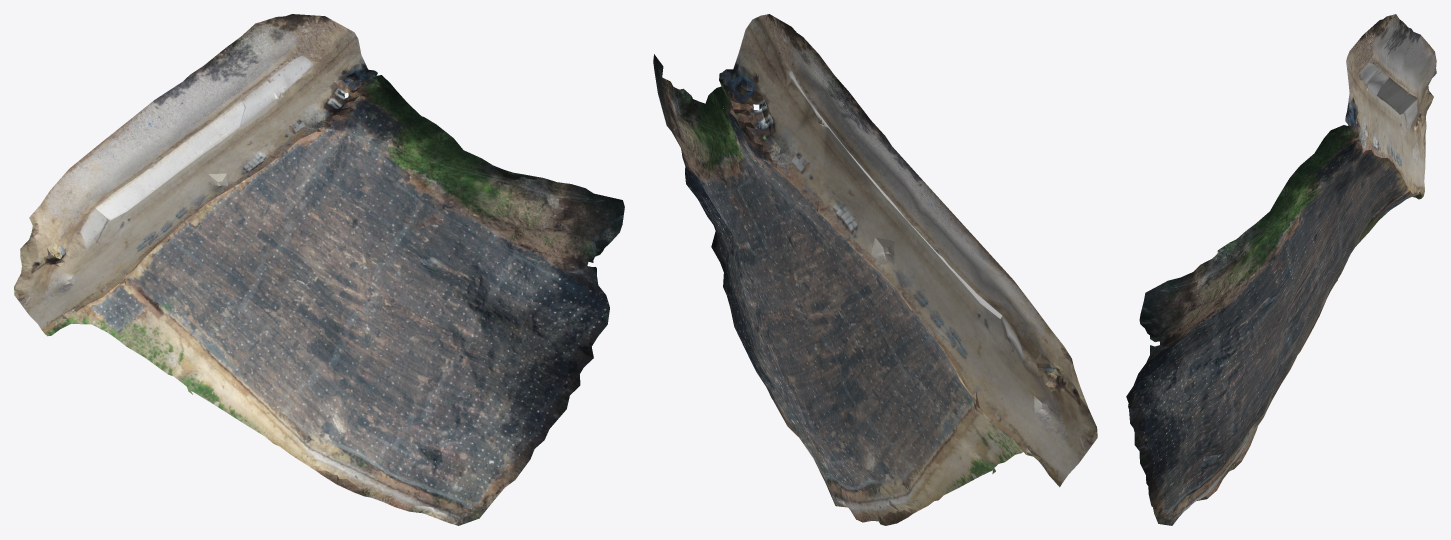
Rendered from perau_2409.glb.
3 views of the same model, side by side, from view 1: azimuth 30°, elevation 25°; view 2: azimuth 150°, elevation 25°; view 3: azimuth 270°, elevation 25° (orthographic). The views are drawn at different scales.
Parts seen in each view (by area): view 1: Bloco 1; view 2: Bloco 1; view 3: Bloco 1.
Part boxes in pixels (x1,y1,x2,y2): Bloco 1: [14, 14, 624, 525]; Bloco 1: [653, 14, 1097, 525]; Bloco 1: [1126, 14, 1436, 525].
Size of the model in its own units: 119 by 109 by 64.69.
Materials: 1 (1 with a texture image).
